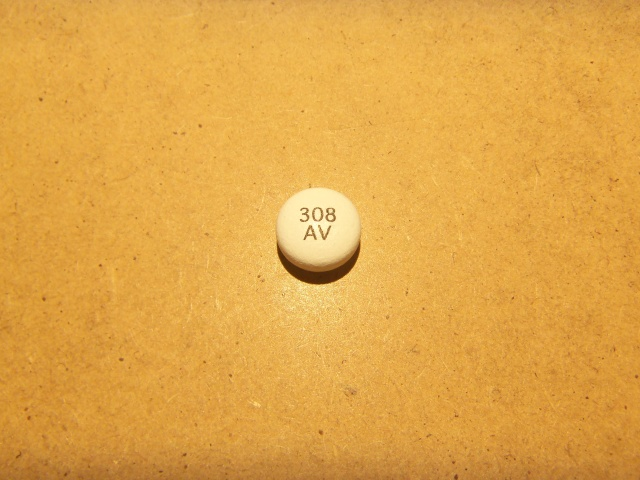0: (312, 205, 325, 223)
3: (299, 205, 311, 223)
8: (325, 205, 337, 223)
A: (301, 224, 317, 242)
V: (318, 223, 333, 242)
